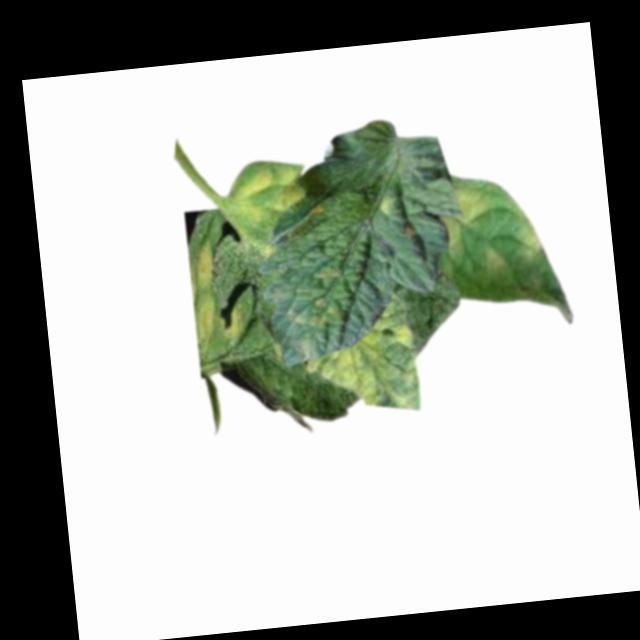Leaf_Mold: (296, 295, 421, 422), (224, 154, 310, 228), (433, 183, 494, 251), (286, 287, 344, 330), (510, 206, 544, 260), (190, 289, 220, 343), (188, 243, 219, 291), (217, 303, 244, 342), (480, 245, 510, 280), (310, 259, 345, 286), (375, 192, 397, 219), (307, 199, 330, 222)
